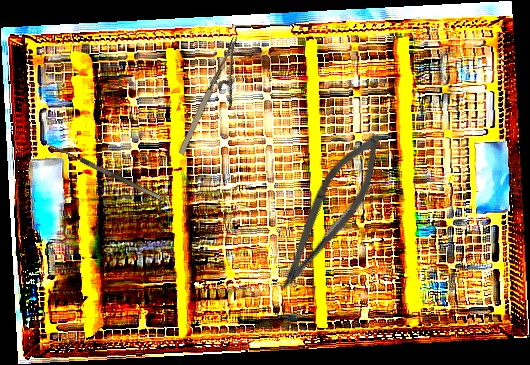Hook Surgical: (40, 139, 162, 207)
Micro Scissor: (267, 120, 396, 305)
Needle Holder: (174, 34, 262, 165)
